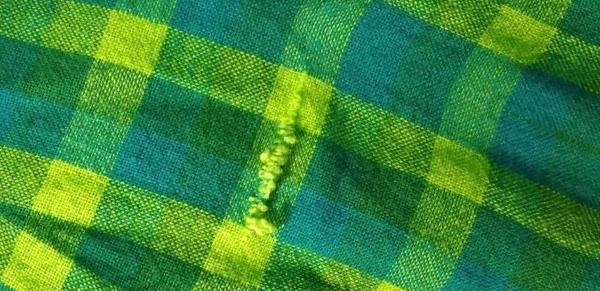knot: (244, 93, 304, 235)
